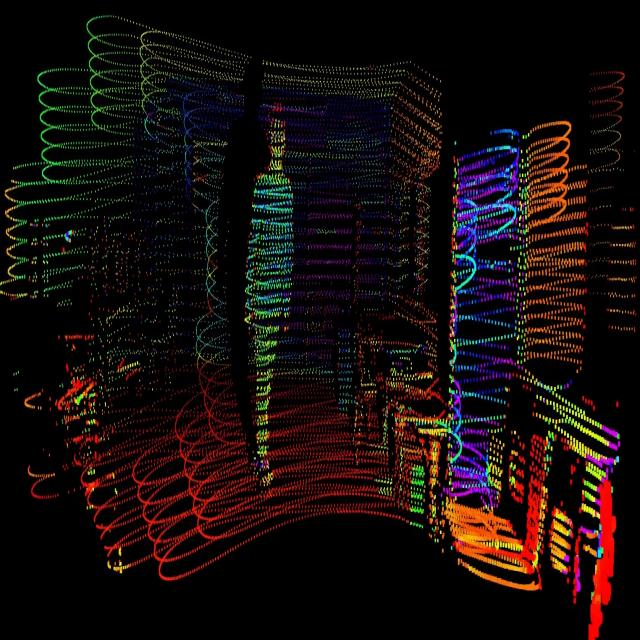human: (238, 97, 301, 498)
